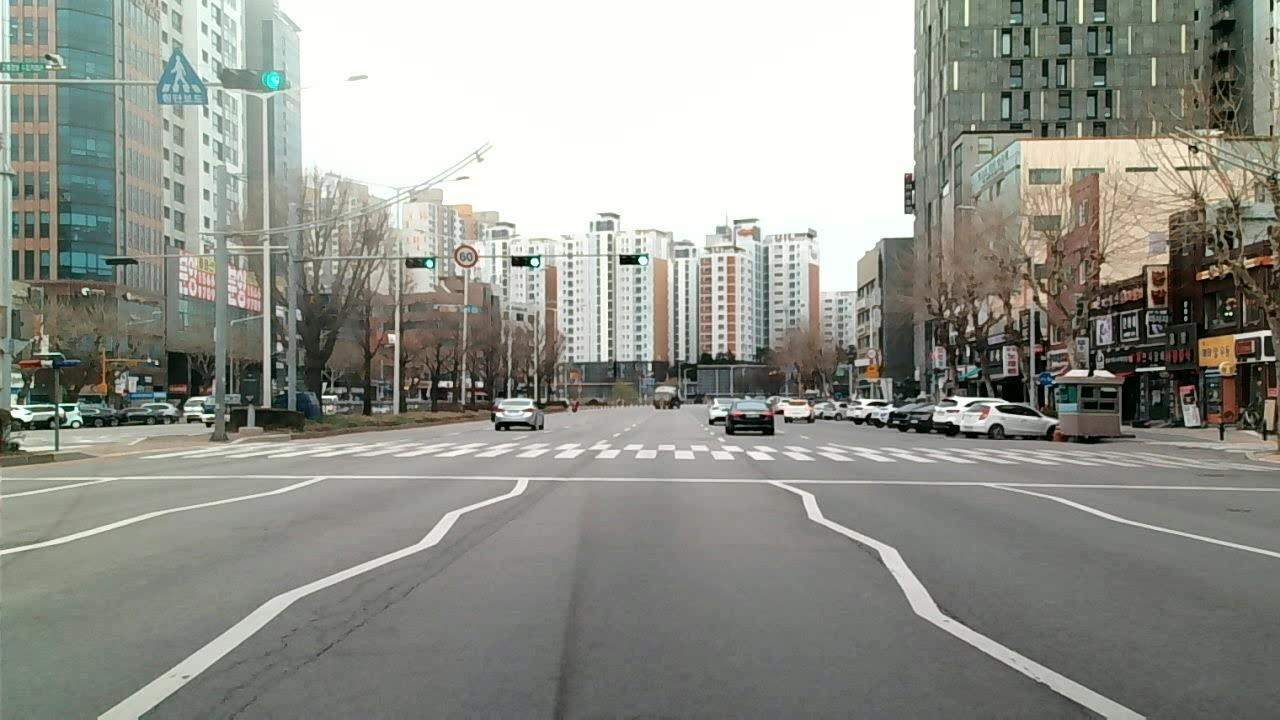banner: (314, 574, 423, 653), (203, 644, 312, 720), (429, 508, 514, 570), (851, 531, 883, 560)
